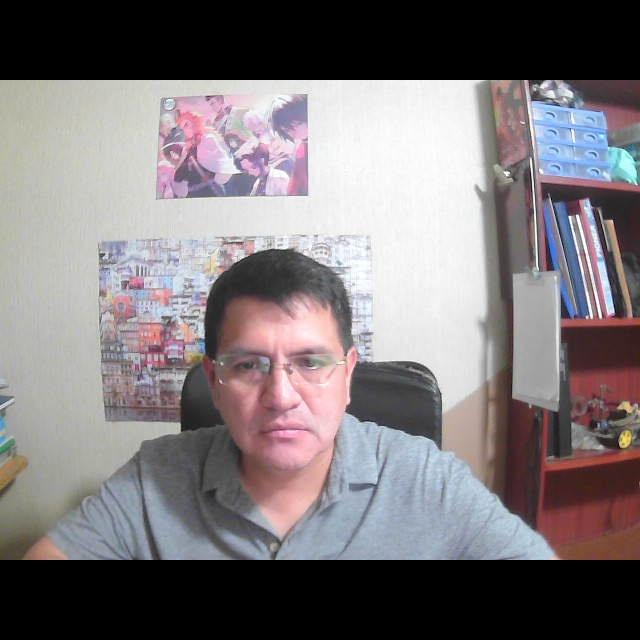cesar: (187, 237, 375, 498)
